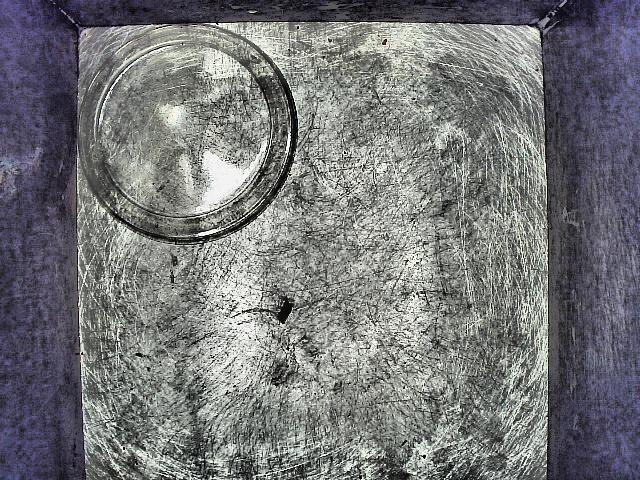Plastic: (82, 21, 322, 271)
